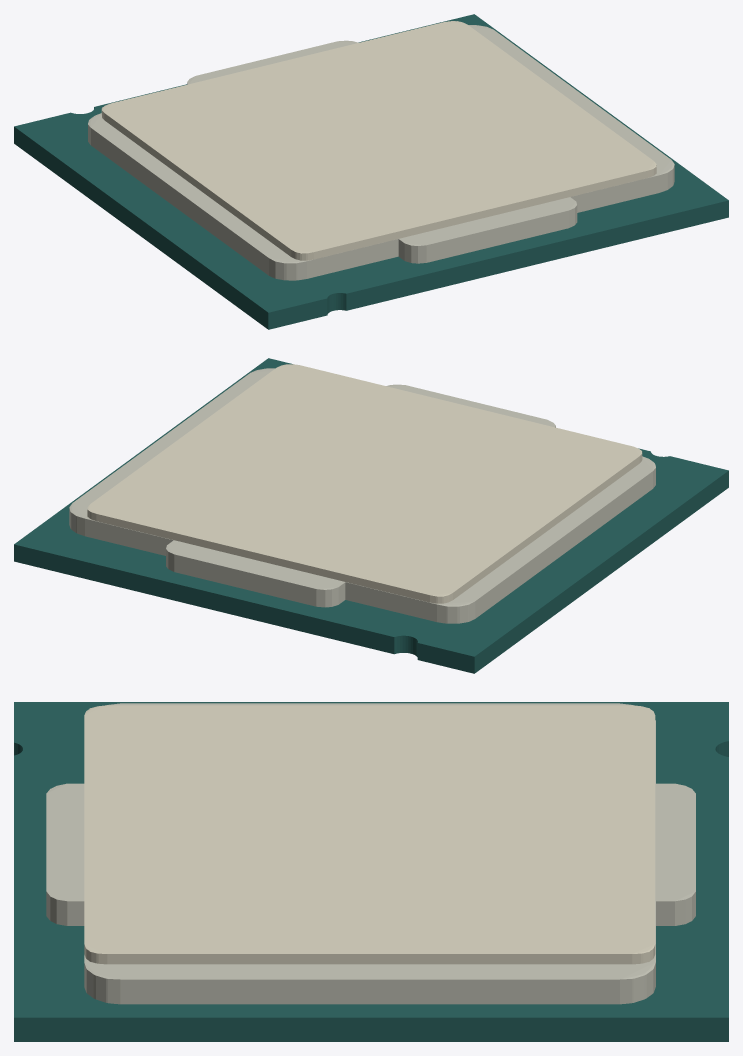
File: proci.fbx
3 renders of one model, top to bottom at view 1: azimuth 30°, elevation 25°; view 2: azimuth 150°, elevation 25°; view 3: azimuth 270°, elevation 25°, orthographic. The views are drawn at different scales.
Parts seen in each view (by area): view 1: Cube.002; view 2: Cube.002; view 3: Cube.002.
Boxes of the visible parts, x1,y1,x2,y2 form: Cube.002: [14, 14, 728, 329]; Cube.002: [14, 358, 728, 673]; Cube.002: [14, 702, 728, 1041].
Bounding box in the file's own units: 1.73 × 0.1513 × 1.65.
